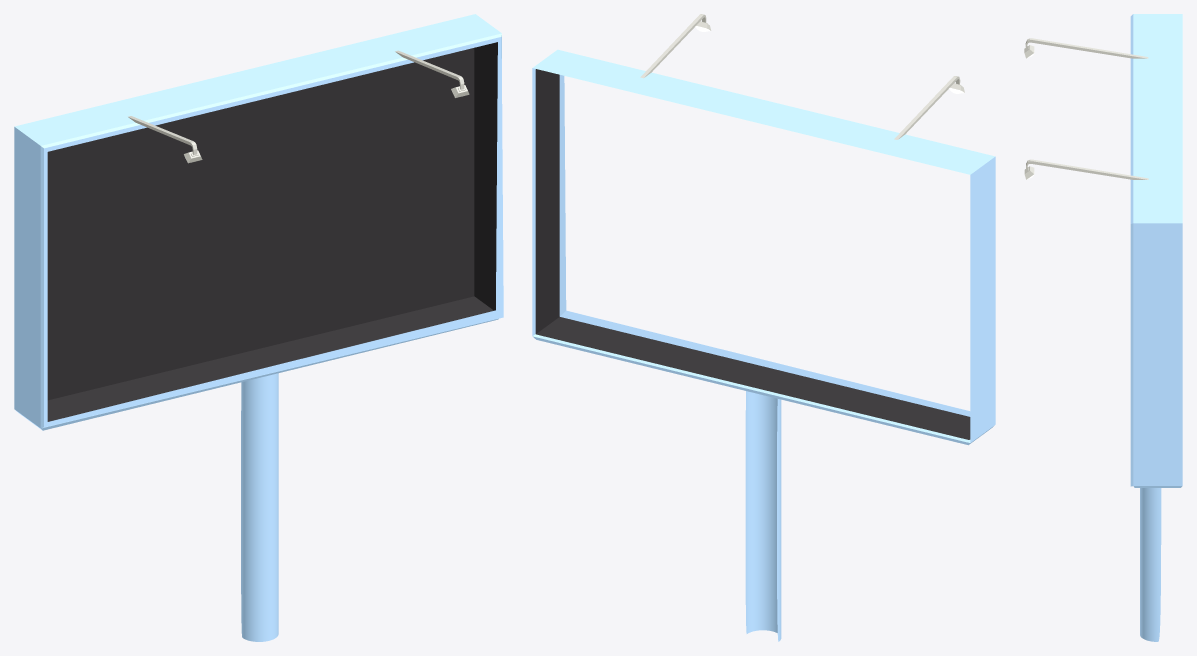
File: billboard.glb
3 renders of one model, left to right at view 1: azimuth 30°, elevation 25°; view 2: azimuth 150°, elevation 25°; view 3: azimuth 270°, elevation 25°, orthographic. The views are drawn at different scales.
Parts seen in each view (by area): view 1: Screen, Pillar; view 2: Screen, Pillar; view 3: Screen, Pillar, Left Projector, Right Projector.
Part boxes in pixels (<box>): Screen: <box>14,14,503,430</box>; Pillar: <box>241,373,278,641</box>; Screen: <box>532,49,995,445</box>; Pillar: <box>745,391,781,641</box>; Screen: <box>1130,14,1182,487</box>; Pillar: <box>1140,488,1161,641</box>; Left Projector: <box>1024,38,1148,58</box>; Right Projector: <box>1024,159,1148,179</box>.
Bounding box in the file's own units: 10.35 × 12.31 × 3.3.
